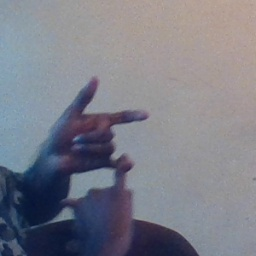S: (42, 74, 154, 230)
